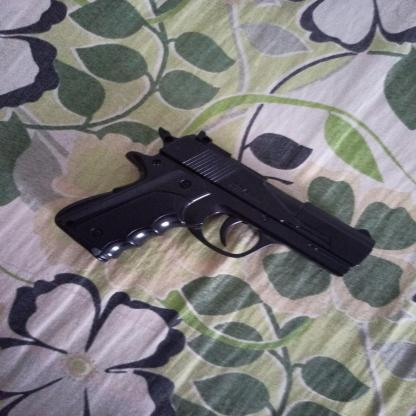handgun: (56, 125, 375, 277)
